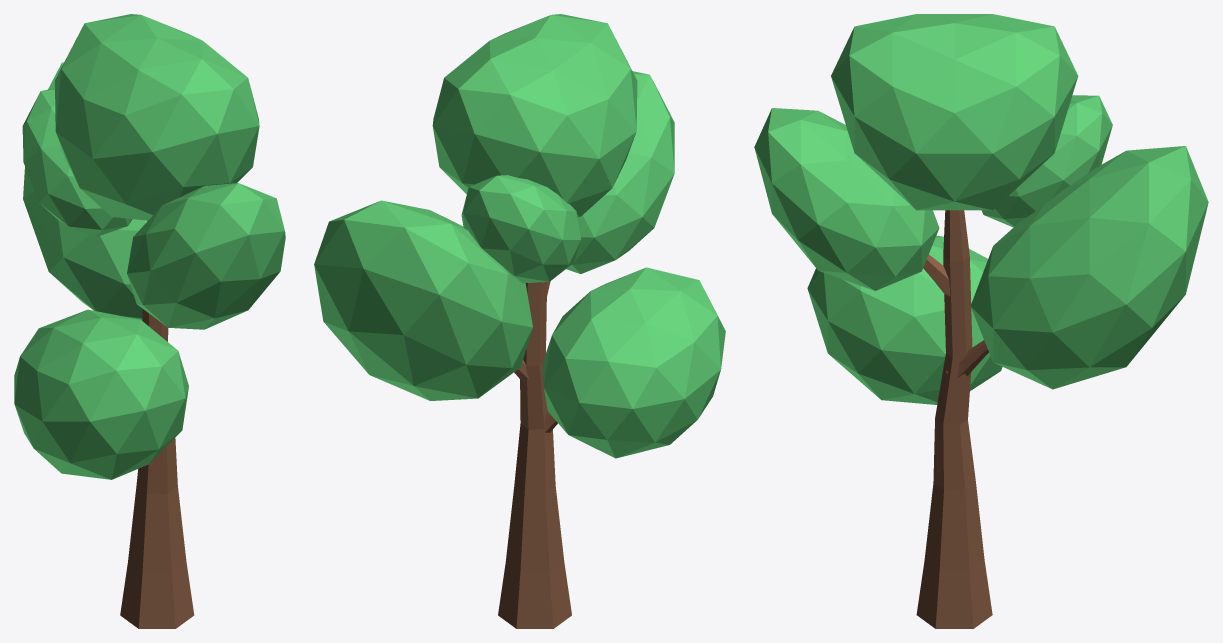
Rendered from tree_1.fbx.
3 views of the same model, side by side, from view 1: azimuth 30°, elevation 25°; view 2: azimuth 150°, elevation 25°; view 3: azimuth 270°, elevation 25° (orthographic). The views are drawn at different scales.
Parts seen in each view (by area): view 1: tree_1; view 2: tree_1; view 3: tree_1.
Part boxes in pixels (<box>): tree_1: <box>14,14,285,628</box>; tree_1: <box>314,14,725,628</box>; tree_1: <box>754,14,1208,628</box>.
Bounding box in the file's own units: 2.61 × 5.08 × 3.54.
